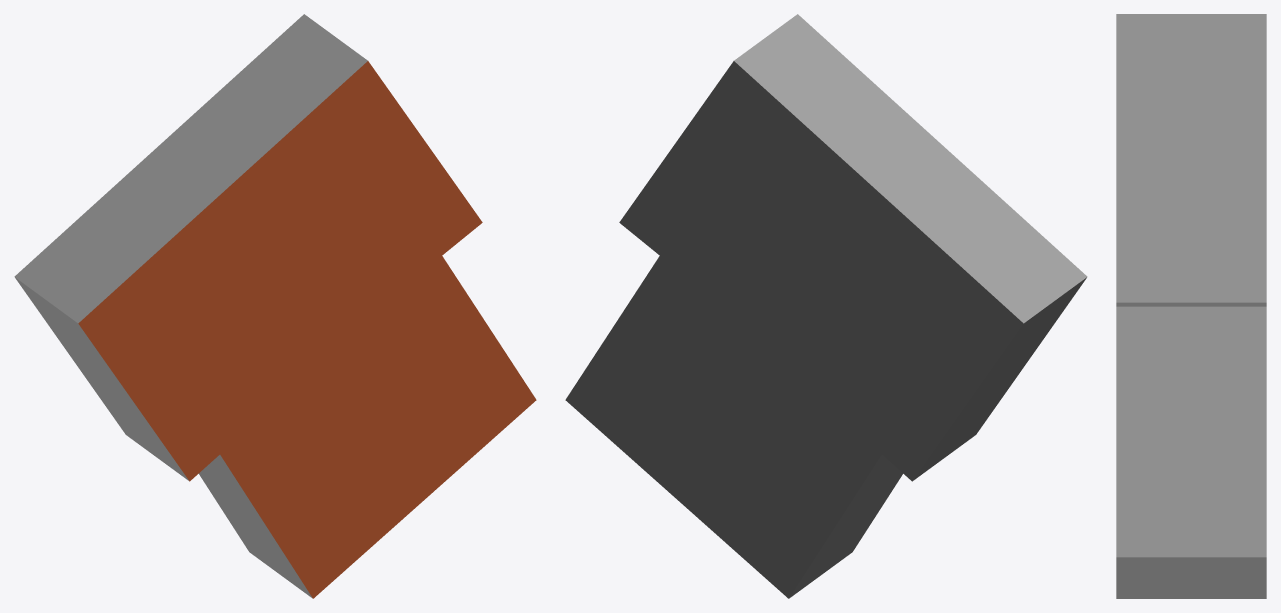
Rendered from construction_0828_assumed_A_Casa_h6m.obj.
3 renders of one model, left to right at view 1: azimuth 30°, elevation 25°; view 2: azimuth 150°, elevation 25°; view 3: azimuth 270°, elevation 25°, orthographic. The views are drawn at different scales.
Visible parts, largest first — view 1: construction_0828_assumed_A_Casa; view 2: construction_0828_assumed_A_Casa; view 3: construction_0828_assumed_A_Casa.
Boxes of the visible parts, left/top/right/bottom form: construction_0828_assumed_A_Casa: left=14, top=14, right=536, bottom=598; construction_0828_assumed_A_Casa: left=565, top=14, right=1087, bottom=598; construction_0828_assumed_A_Casa: left=1116, top=14, right=1266, bottom=598.
Bounding box in the file's own units: 24.85 × 27.18 × 6.
